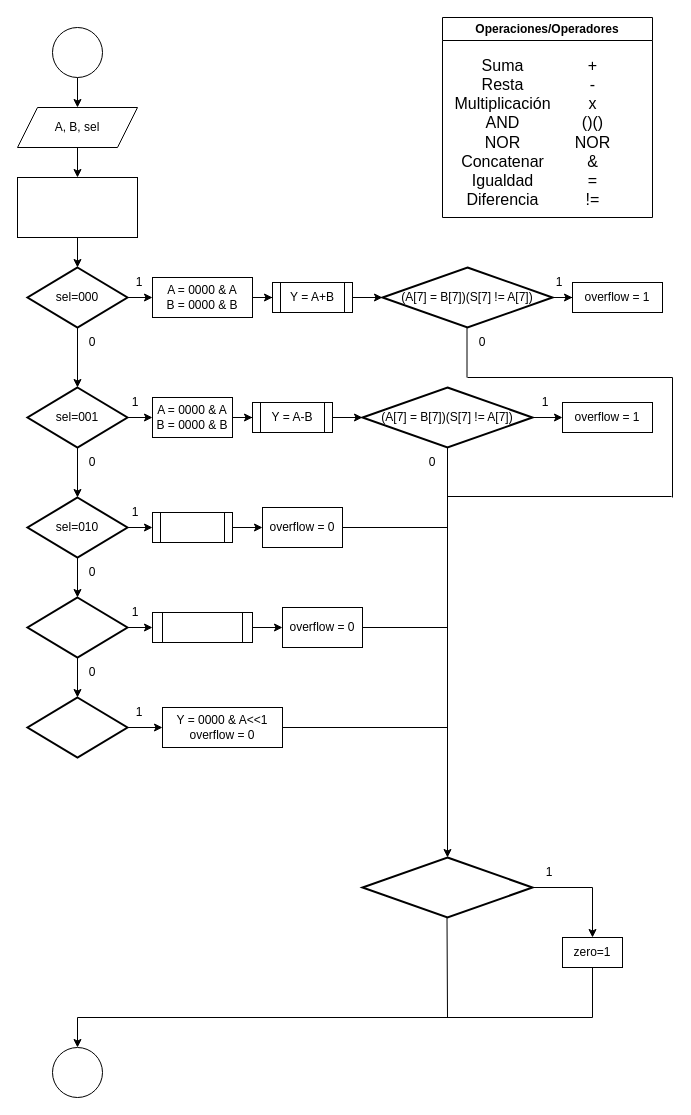
Image size: 691x1115. Some labels were removed from this diagram. Each missing label, with the box of its shape:
Fin: (52, 1046, 102, 1098)
Inicio: (52, 26, 102, 78)
sel=011: (26, 596, 128, 658)
sel=100: (26, 696, 128, 758)
Y = 00000000: (361, 856, 533, 918)
Y = 00000000 overflow = 0 zero = 0: (16, 176, 138, 238)
Y = A NOR B: (152, 612, 252, 642)
Y = A x B: (152, 512, 232, 542)
